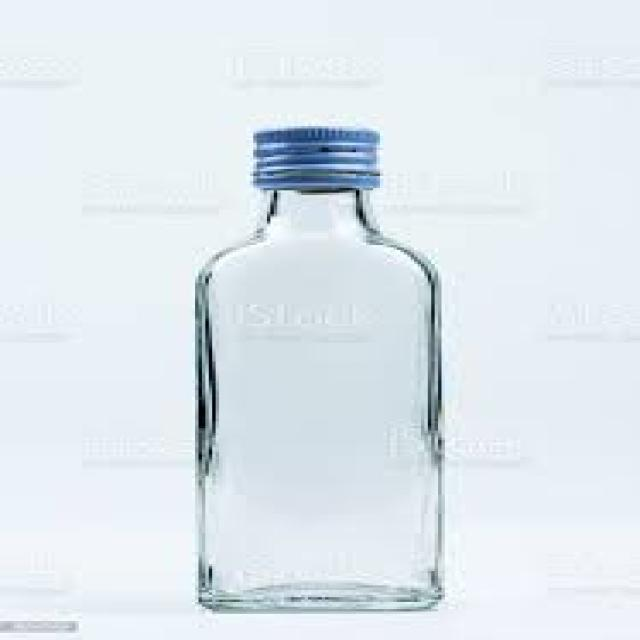Glass: (194, 190, 442, 610)
